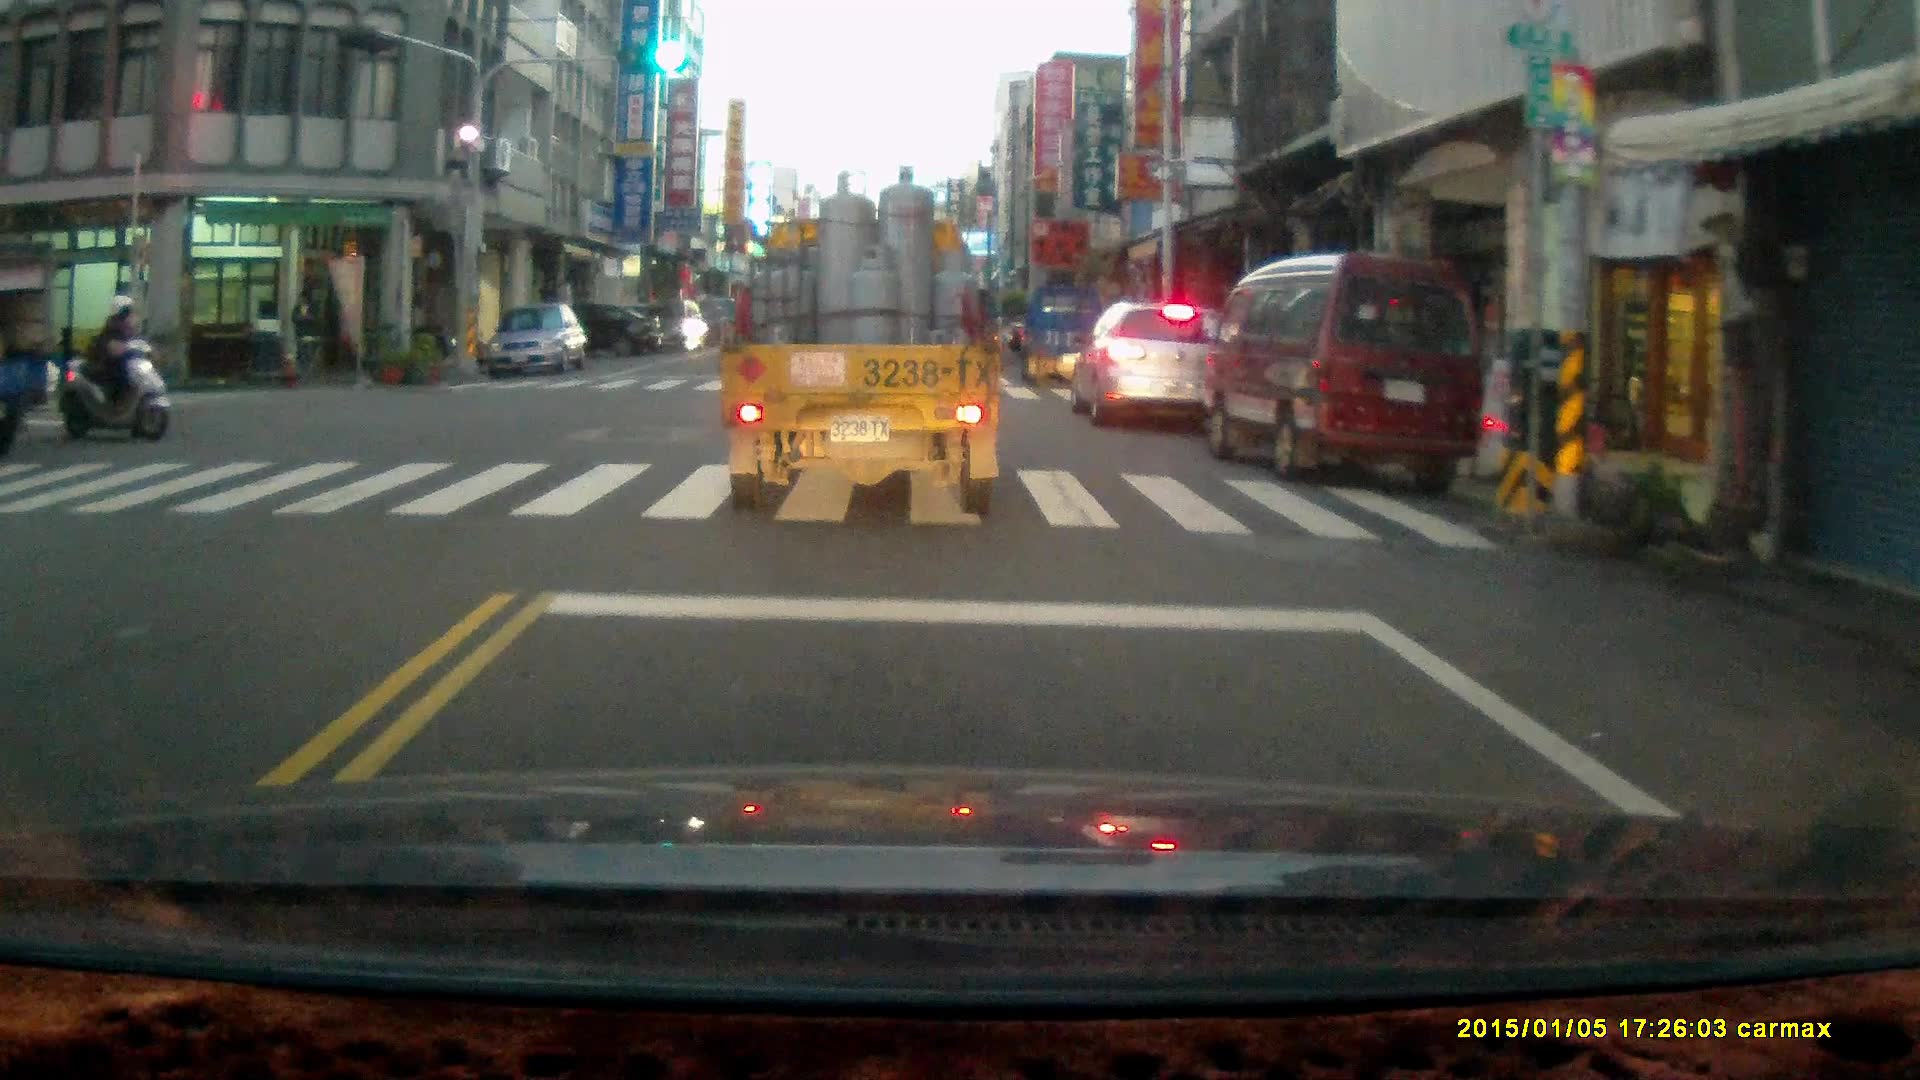pedestrian: (288, 282, 322, 386)
rider: (54, 293, 170, 439)
vehicle: (721, 162, 1004, 511), (1213, 247, 1496, 486), (1072, 289, 1245, 433), (1022, 282, 1110, 387), (484, 301, 590, 382), (525, 297, 661, 359), (619, 299, 708, 350)
